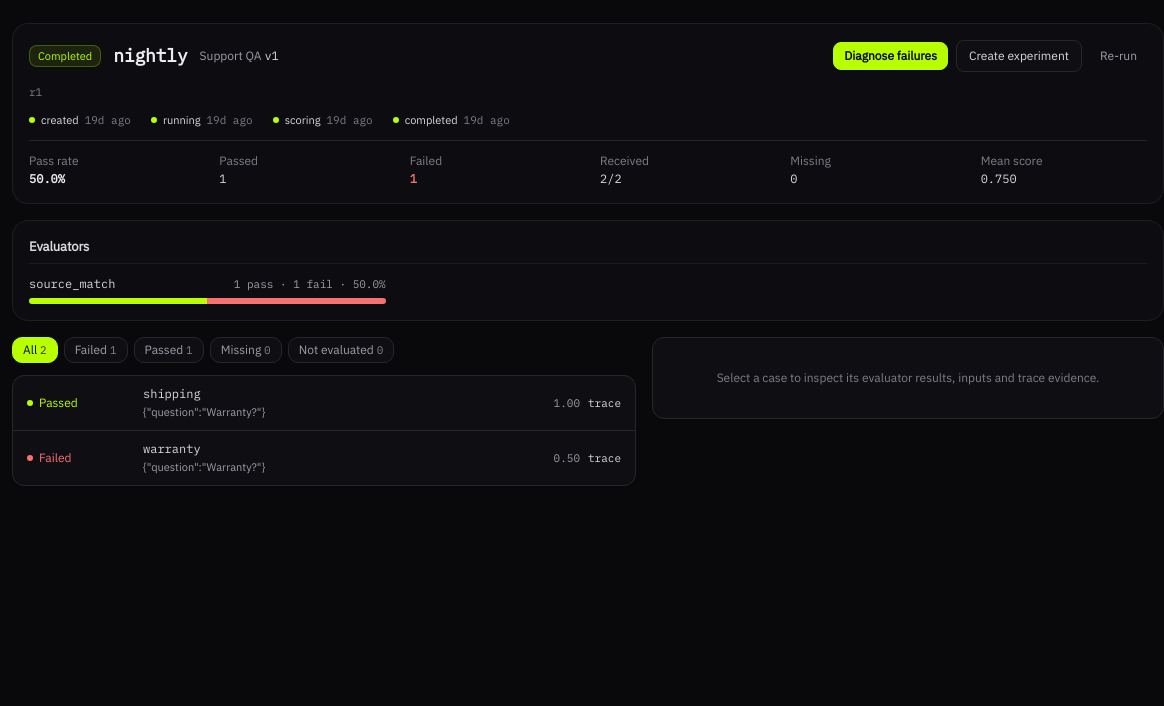
Scenario: RunPage › shows the pass rate, evaluator breakdown and failed-case evidence with trace links
Check: the text "50.0%" is shown, box [29,171,65,186]
Check: the text "1 pass · 1 fail · 50.0%" is shown, box [234,276,386,292]
What coordinates should you click on to do the following:
click the tab "Failed 1"
I would click on:
 (96, 350)
Its box is [64,336,128,362].
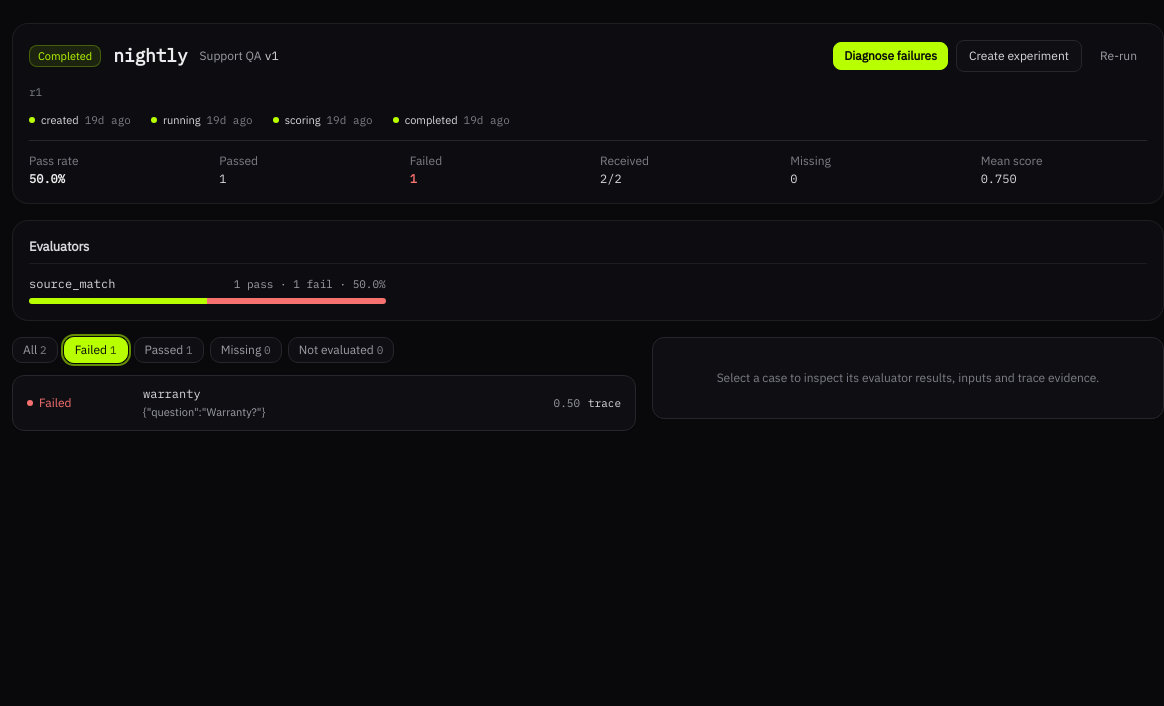
What coordinates should you click on to do the following:
click the text "warranty"
I would click on:
 (172, 393)
Its box is [143,386,201,400].
(page scrolled)
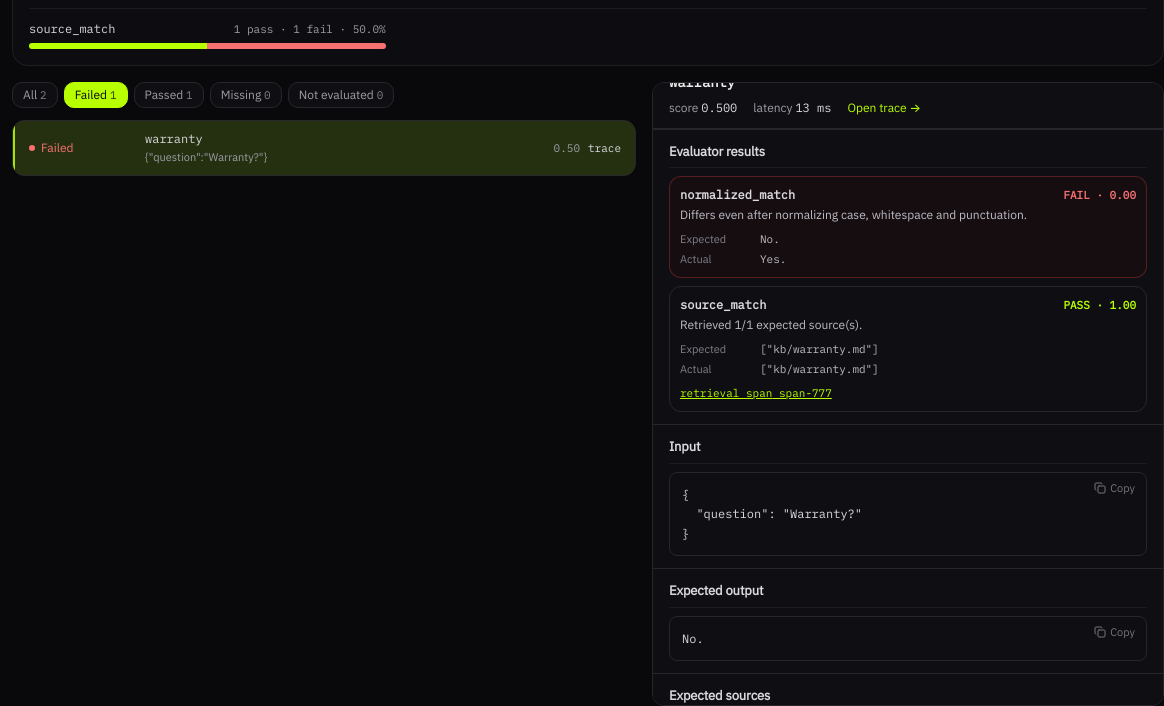
Check: the element named "Case warranty" shows "Differs even after normalizing", box [680,207,1027,222]
